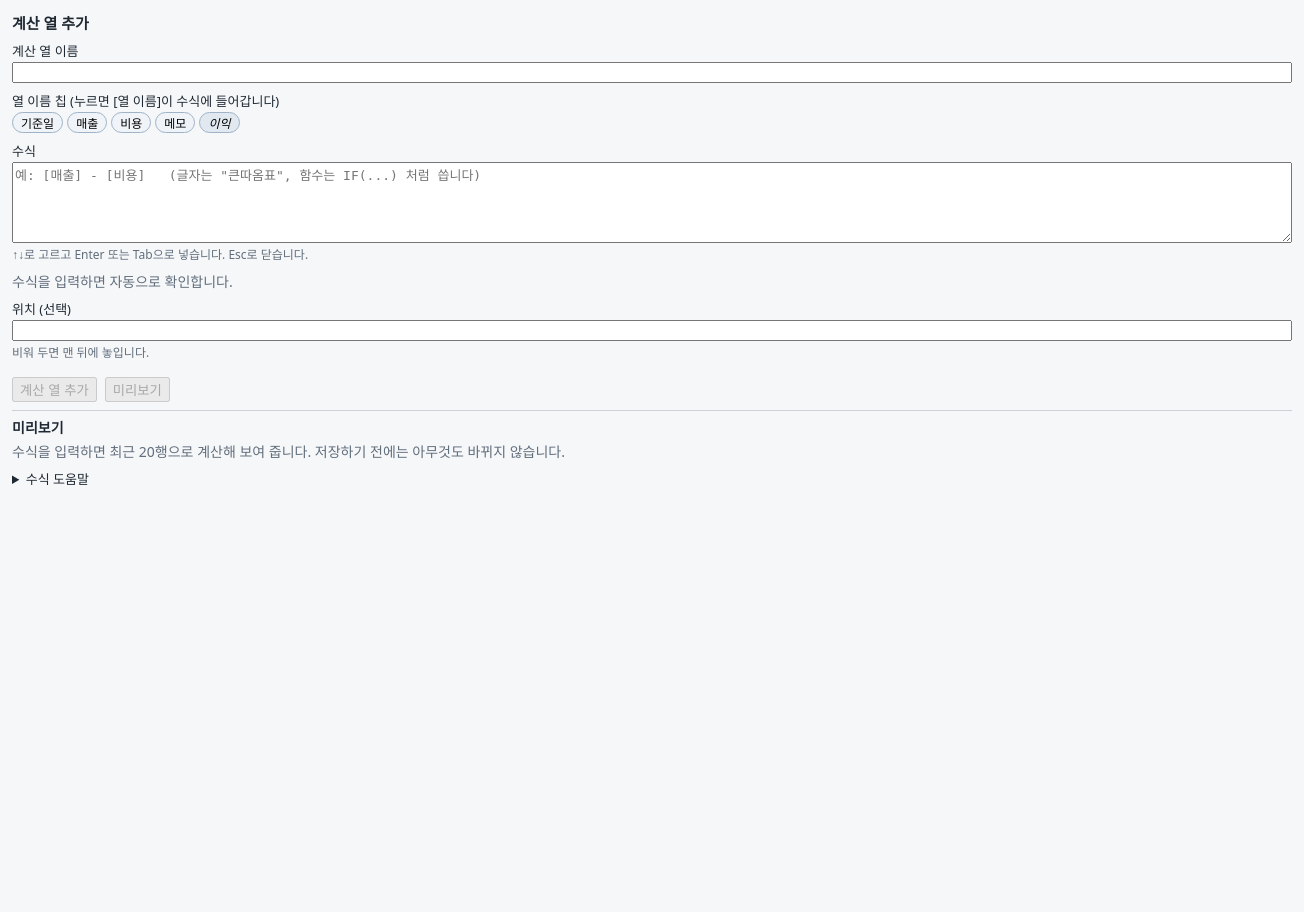
it: 열 이름 칩 › 선택한 글자는 칩으로 바뀐다
Type "1 + x" into the text box labelled "수식" at (652, 202), box [12,162,1292,243]
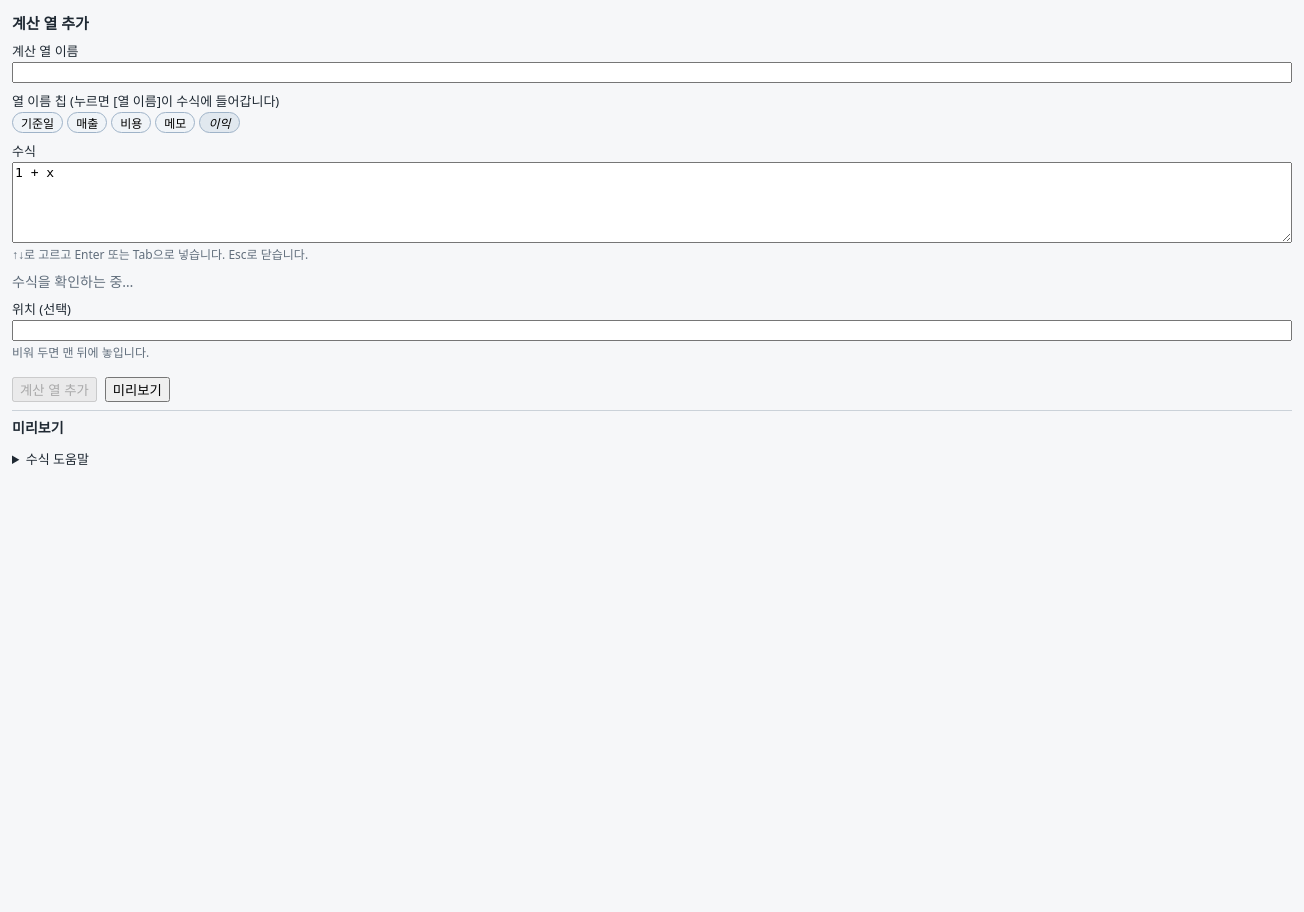
Press x in the text box labelled "수식", box [12,162,1292,243]
Click the button "비용" at (131, 122), box [111,112,151,133]
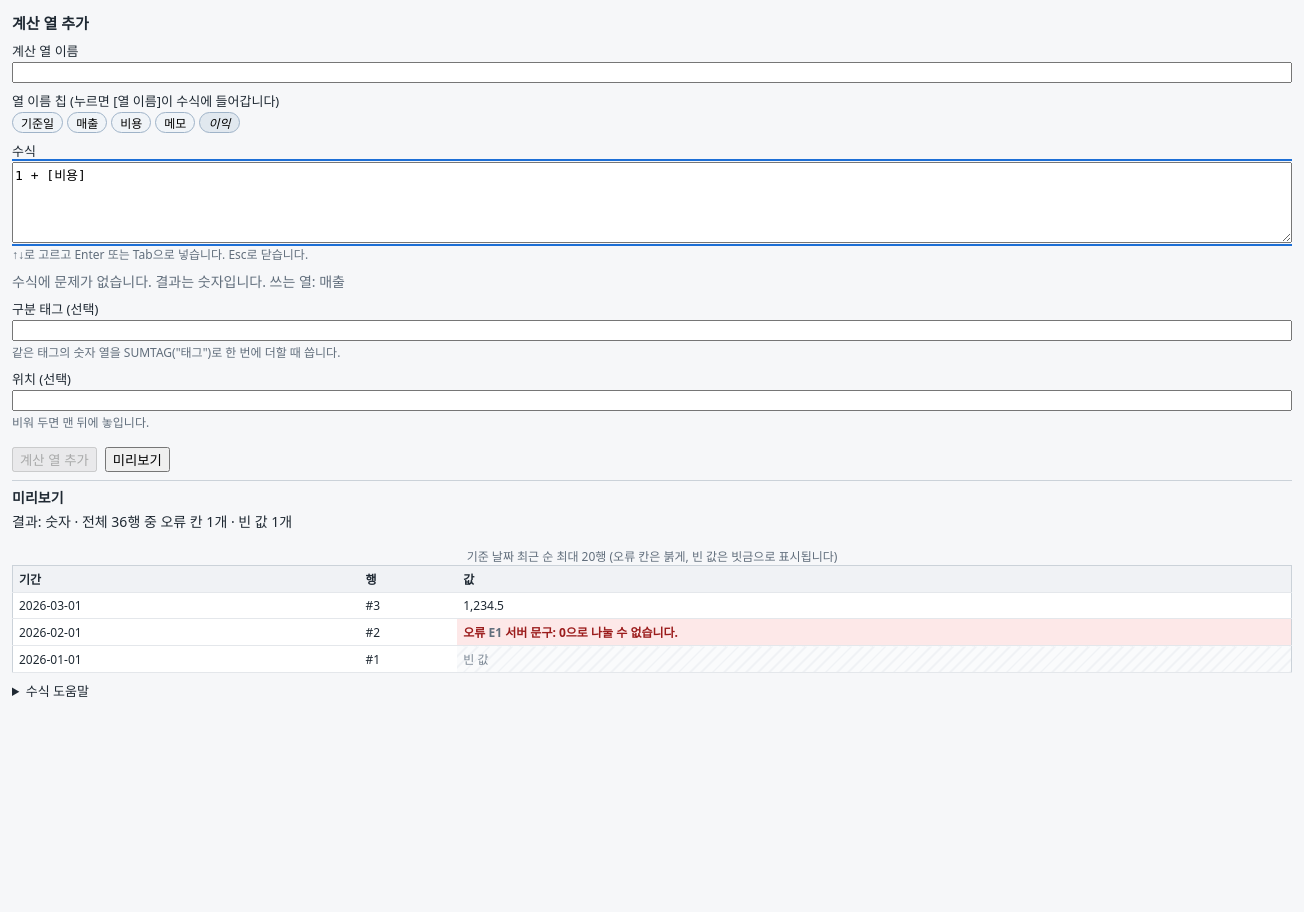
expect the text box labelled "수식" holds "1 + [비용]": met, box [12,162,1292,243]
